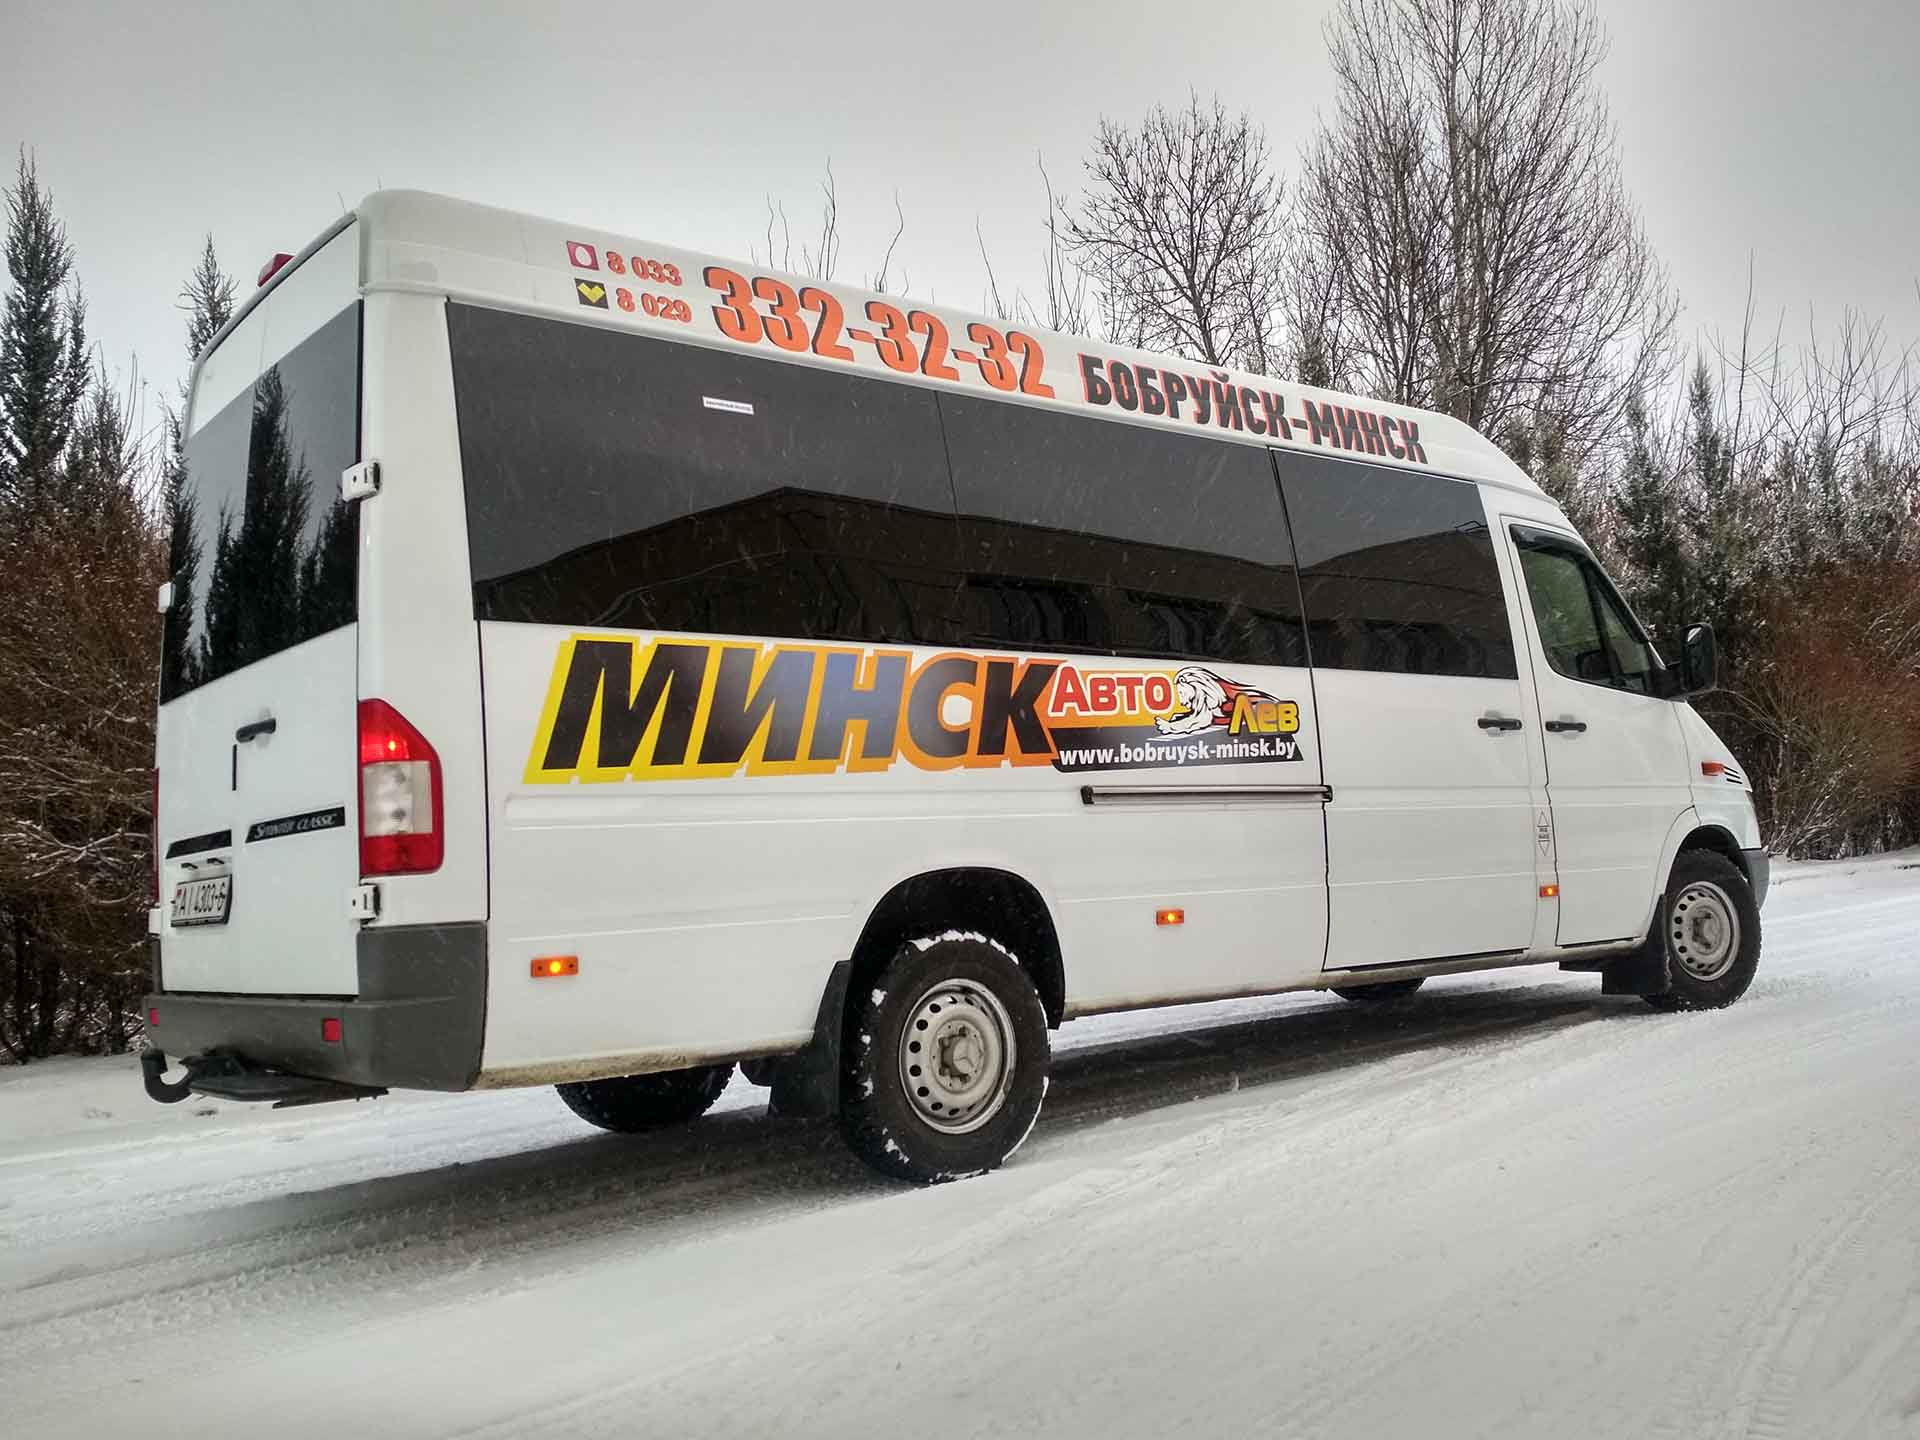van: (129, 188, 1764, 1192)
